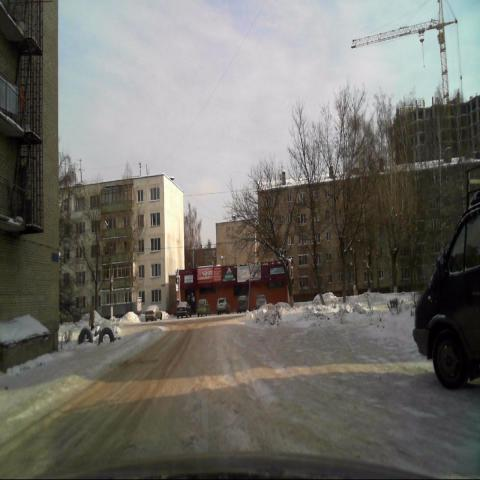2_4: (248, 261, 255, 274)
